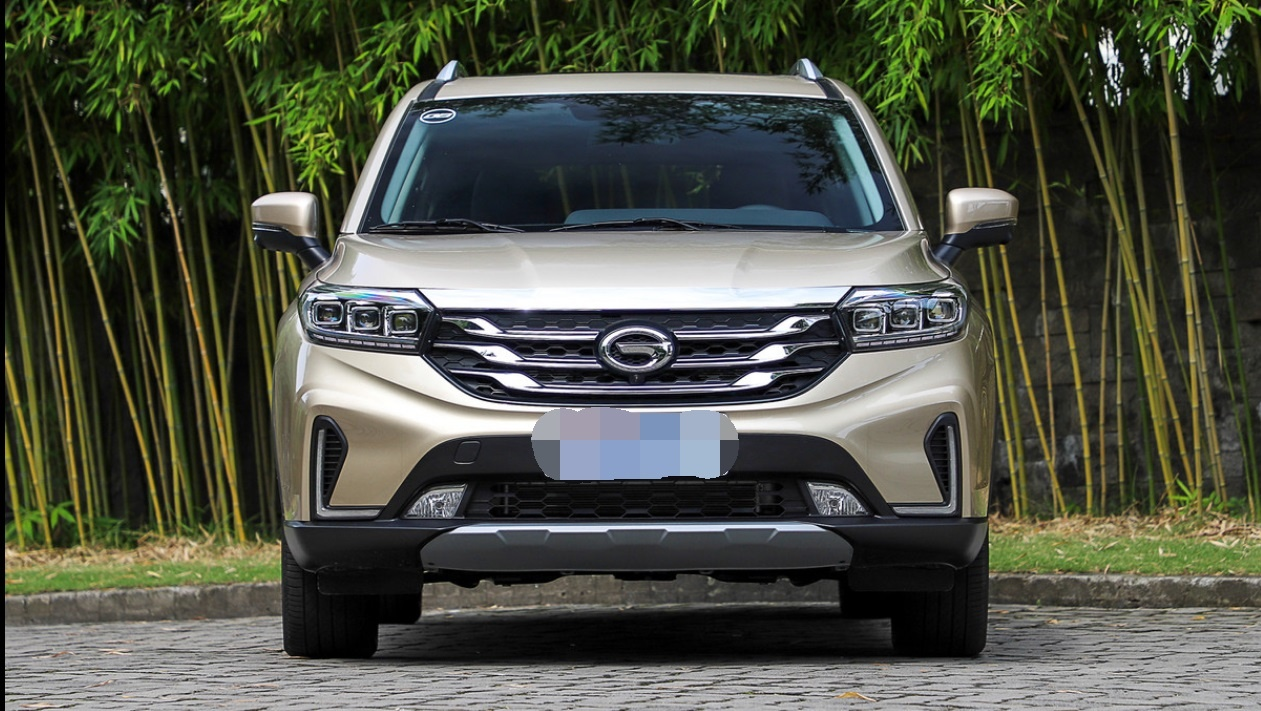SUV: (257, 64, 1077, 693)
